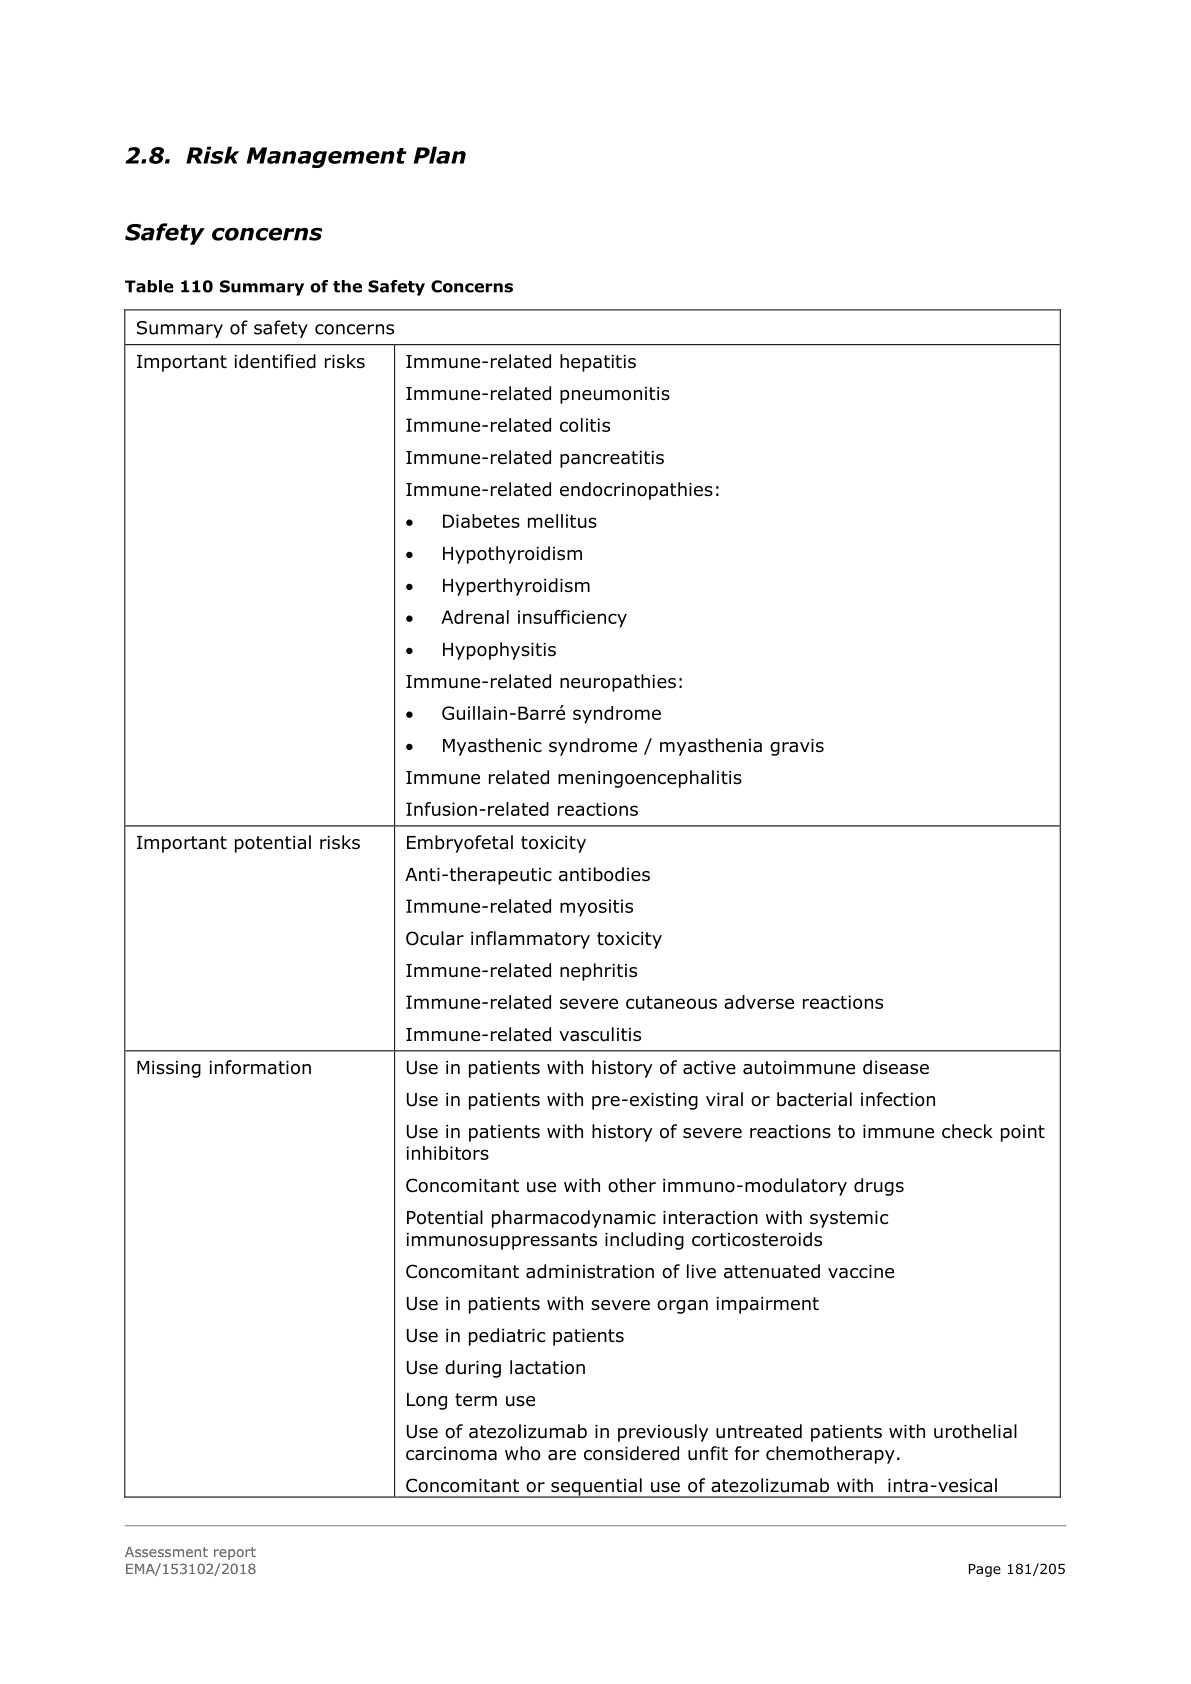merged_cells: (122, 308, 1061, 1498)
